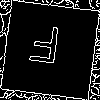F: (25, 25, 63, 74)
